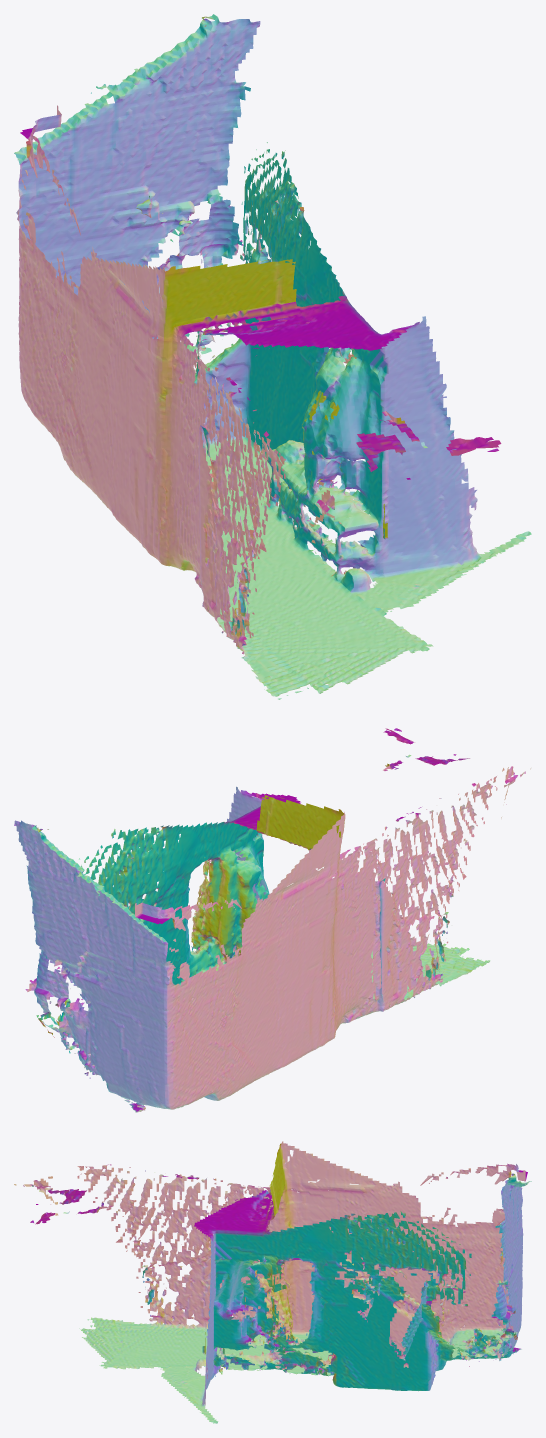
File: Entryway scan.glb
3 views of the same model, one above another, from view 1: azimuth 30°, elevation 25°; view 2: azimuth 150°, elevation 25°; view 3: azimuth 270°, elevation 25° (orthographic). The views are drawn at different scales.
Visible parts, largest first — view 1: AbundanceScan-2026-11-15_102514.glb; view 2: AbundanceScan-2026-11-15_102514.glb; view 3: AbundanceScan-2026-11-15_102514.glb.
Part boxes in pixels (bbox=[...]): AbundanceScan-2026-11-15_102514.glb: bbox=[14, 14, 531, 699]; AbundanceScan-2026-11-15_102514.glb: bbox=[14, 728, 530, 1112]; AbundanceScan-2026-11-15_102514.glb: bbox=[14, 1141, 531, 1423].
Size of the model in its own units: 3.32 by 3.25 by 6.72.
